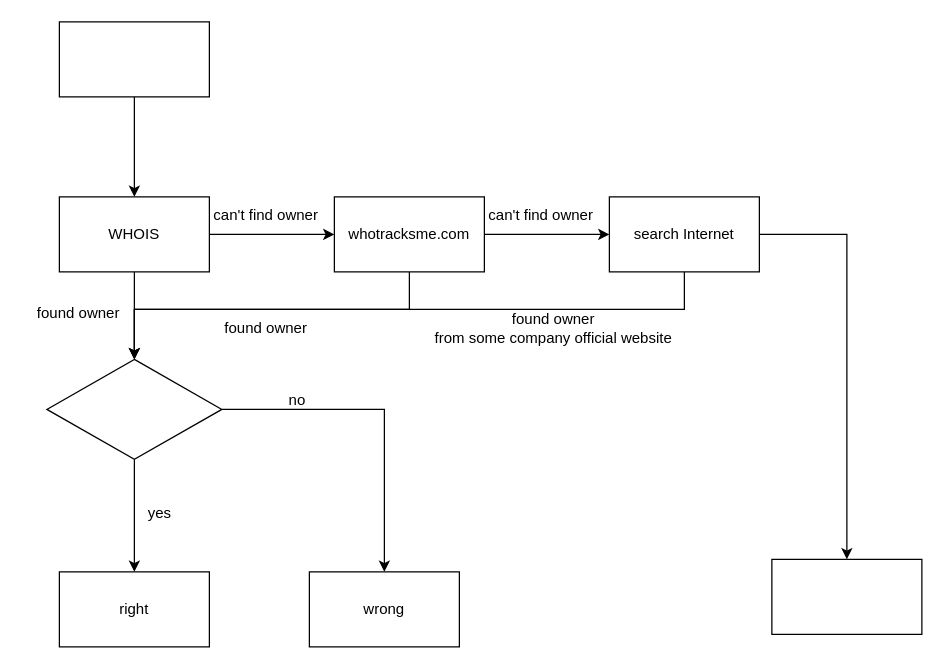
Image size: 944x669. Some labels were removed from this diagram. Each missing label, with the centre of its shape:
"match 'Company' ?" goes at [134,408].
"not sure" goes at [846,596].
"remote hostnames" goes at [133,59].
